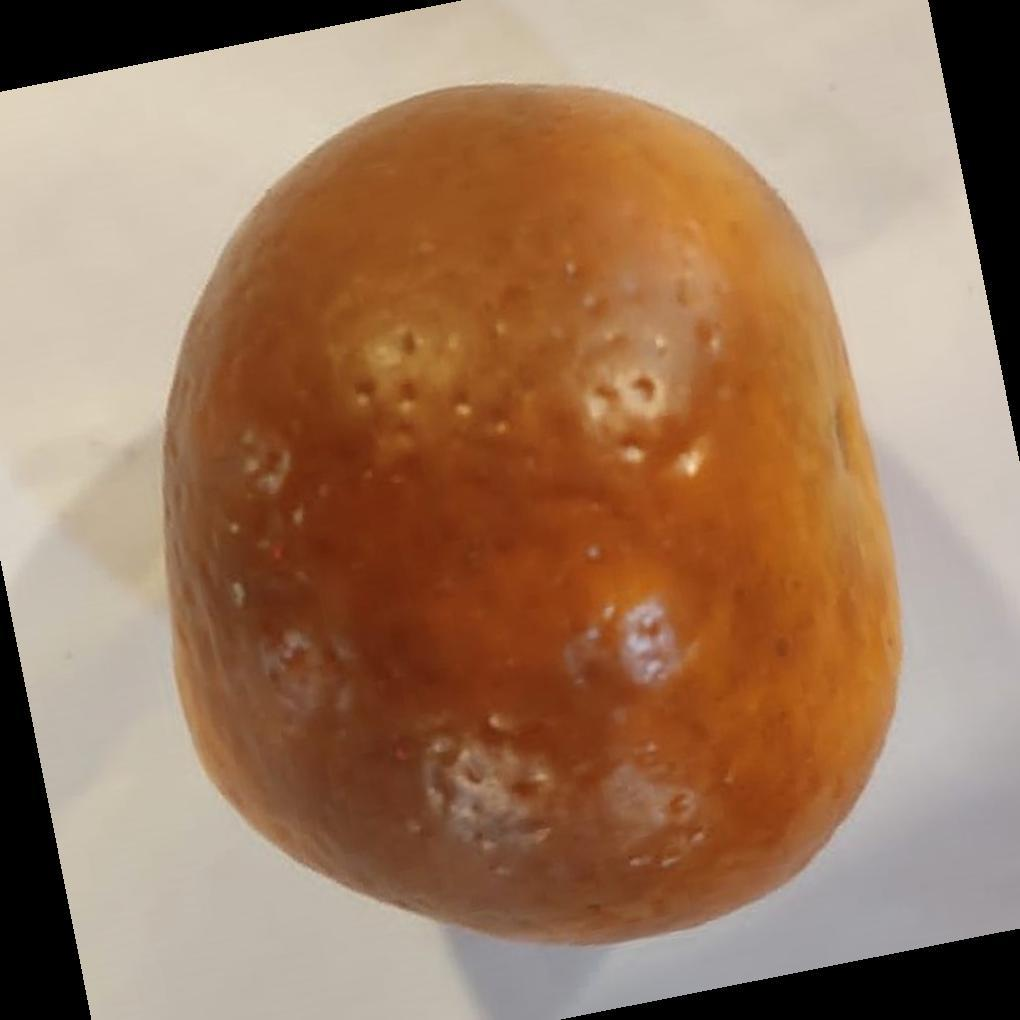FreshOrange: (159, 83, 905, 952)
